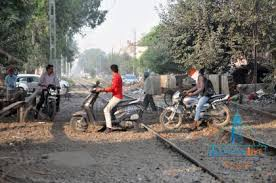crossing railway track: (71, 66, 142, 144), (159, 66, 235, 134), (32, 63, 66, 124), (136, 72, 158, 124)
